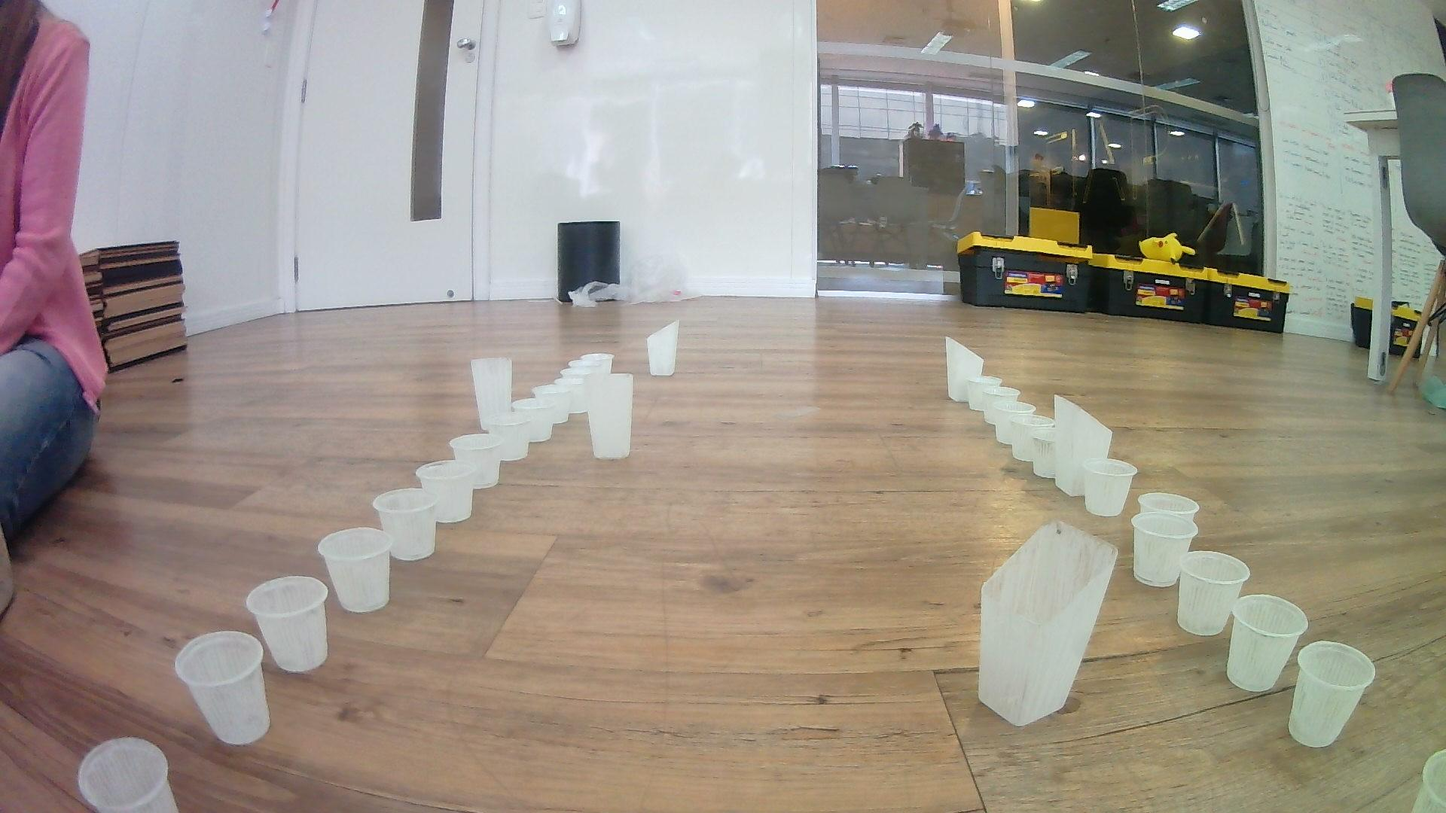erva_daninha: (978, 521, 1119, 727), (1052, 394, 1114, 497), (584, 373, 634, 460), (470, 357, 513, 431), (944, 336, 985, 403), (646, 320, 680, 377)
planta: (173, 631, 271, 746), (1286, 641, 1376, 748), (1226, 593, 1309, 693), (76, 737, 182, 813), (246, 576, 328, 674), (318, 527, 392, 614), (1177, 551, 1251, 637), (1130, 512, 1197, 588), (372, 489, 438, 562), (416, 461, 476, 524), (1080, 458, 1138, 518), (449, 434, 505, 489), (482, 412, 532, 463), (1137, 492, 1200, 528), (1010, 414, 1056, 462), (992, 400, 1038, 445), (510, 397, 554, 443), (1417, 749, 1446, 813), (532, 384, 572, 425), (554, 375, 593, 414), (983, 387, 1021, 425), (965, 376, 1003, 412), (1030, 433, 1057, 479), (581, 352, 615, 373), (568, 359, 607, 376), (561, 367, 600, 383)
